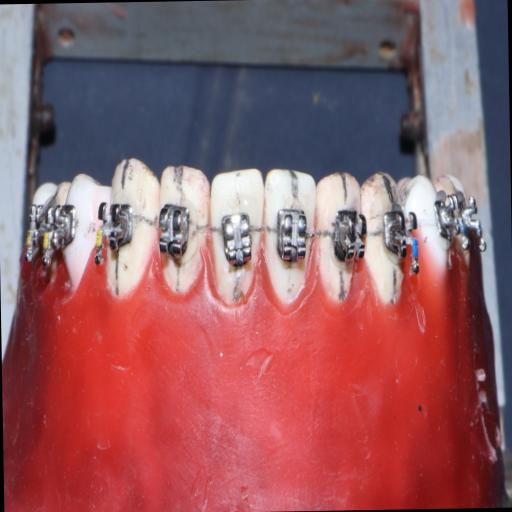correct_brace: (276, 201, 312, 265)
incorrect_brace: (220, 202, 255, 272)
